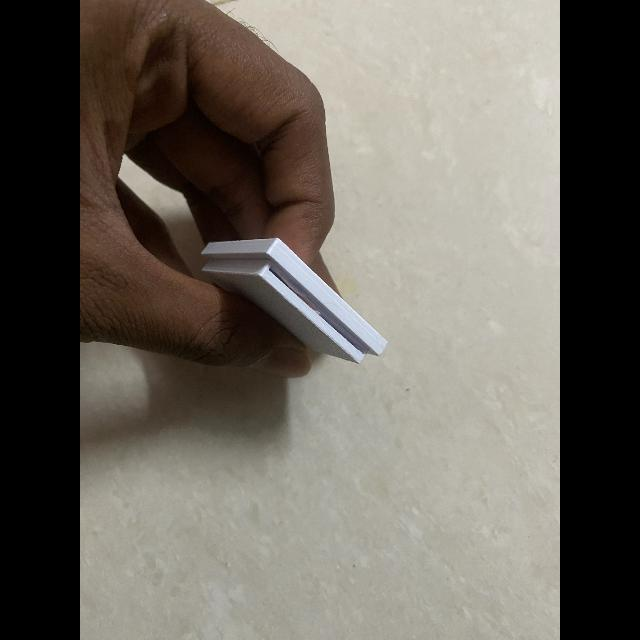RASPBERY PI CAM ENCLOSURE: (202, 238, 388, 364)
